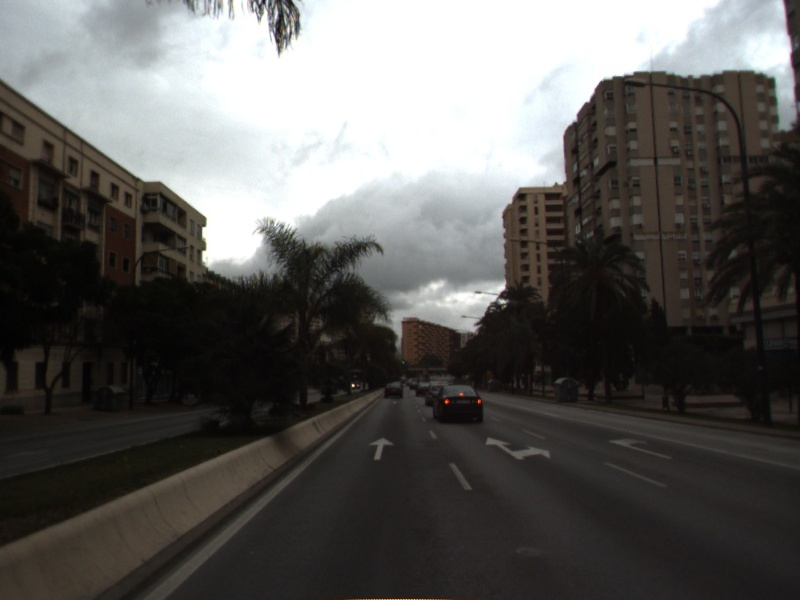RIGHT: (606, 435, 675, 461)
STRAIGHT: (367, 435, 397, 462)
STRAIGHT_RIGHT: (483, 435, 552, 462)
